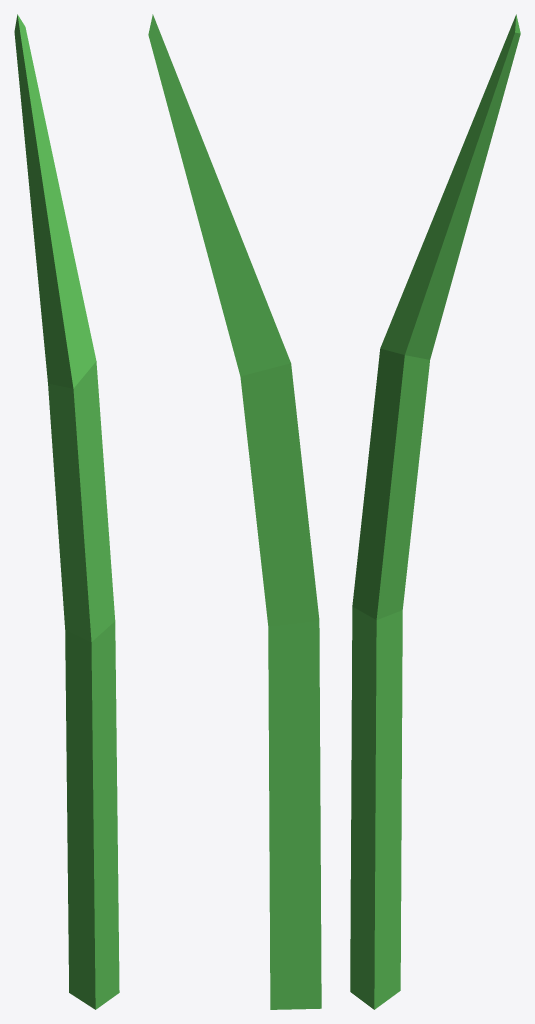
The model's file is blade_t5.glb.
The picture shows the model from 3 angles, left to right: view 1: azimuth 90°, elevation 25°; view 2: azimuth 150°, elevation 25°; view 3: azimuth 330°, elevation 25°; orthographic projection. The views are drawn at different scales.
Parts seen in each view (by area): view 1: 5t; view 2: 5t; view 3: 5t.
Part boxes in pixels (left/top/right/bottom): 5t: left=14, top=14, right=119, bottom=1009; 5t: left=148, top=14, right=321, bottom=1009; 5t: left=350, top=14, right=520, bottom=1009.
Size of the model in its own units: 0.1293 by 0.943 by 0.0958.
